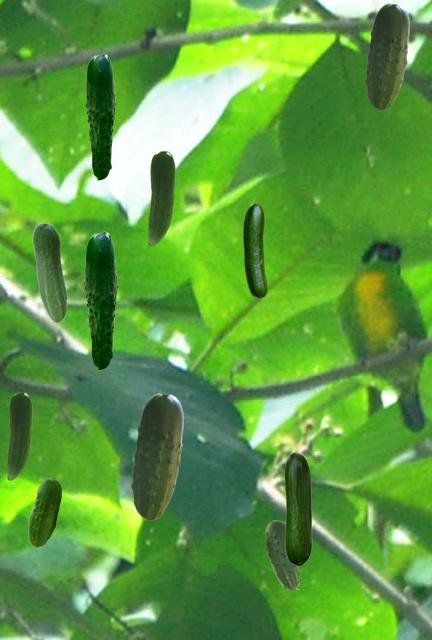cucumber: (131, 393, 182, 519), (365, 3, 408, 109), (84, 231, 117, 369), (85, 53, 115, 179), (32, 222, 67, 322), (284, 452, 311, 565), (148, 151, 174, 245), (265, 520, 298, 588), (28, 478, 60, 546), (243, 203, 266, 297), (7, 392, 31, 479)
